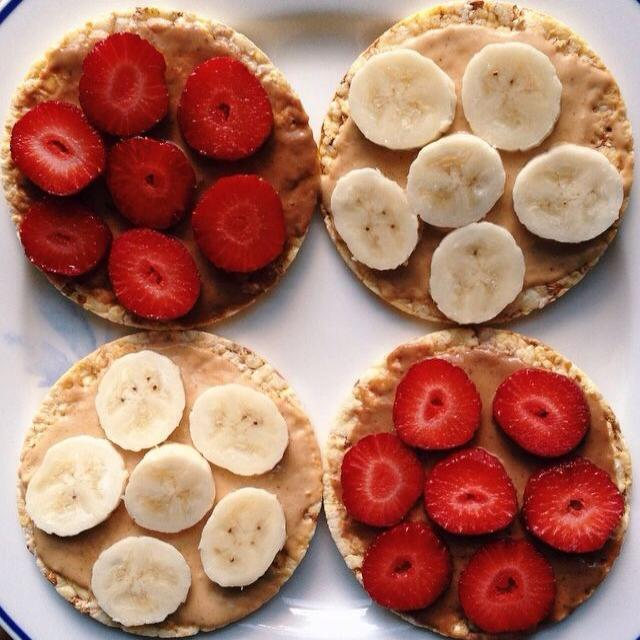Banana: (461, 42, 563, 150), (346, 49, 456, 149), (513, 142, 621, 234), (29, 437, 124, 537), (190, 384, 291, 478), (430, 223, 523, 325), (96, 352, 188, 450), (91, 535, 192, 622), (409, 135, 504, 227), (331, 169, 418, 269), (201, 490, 287, 588), (125, 447, 217, 529)
Strawberry: (523, 460, 625, 552), (82, 32, 171, 134), (179, 58, 272, 152), (495, 368, 590, 460), (194, 175, 285, 269), (106, 229, 200, 319), (12, 103, 108, 191), (424, 449, 520, 535), (364, 525, 457, 613), (338, 431, 422, 527), (107, 140, 196, 230), (462, 544, 555, 628), (396, 358, 480, 446), (21, 194, 107, 270)
